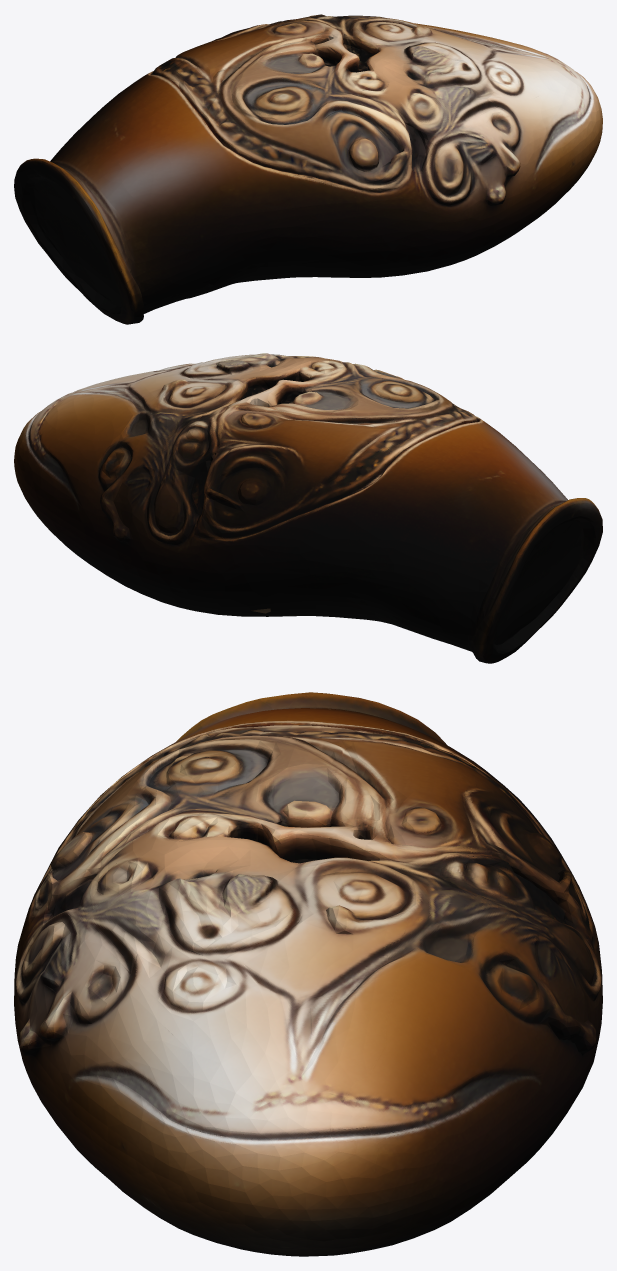
Rendered from handmade-clay-ocarina-vintage.jpeg.glb.
The picture shows the model from 3 angles, top to bottom: view 1: azimuth 30°, elevation 25°; view 2: azimuth 150°, elevation 25°; view 3: azimuth 270°, elevation 25°; orthographic projection. The views are drawn at different scales.
Parts seen in each view (by area): view 1: world; view 2: world; view 3: world.
Part boxes in pixels (x1,y1,x2,y2): world: [14, 14, 602, 324]; world: [14, 353, 602, 663]; world: [14, 692, 602, 1256].
Bounding box in the file's own units: 1 × 0.3759 × 0.6033.
Materials: 1 (1 with a texture image).
